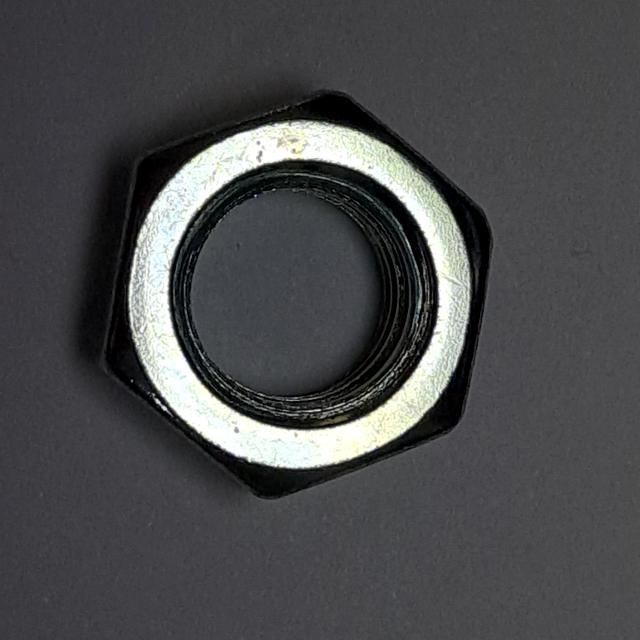Excellent: (85, 66, 505, 517)
